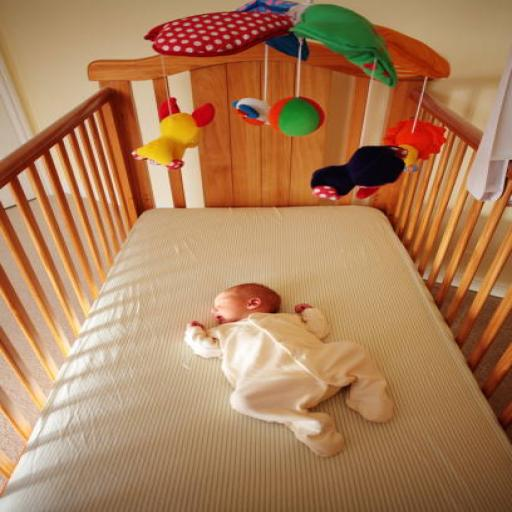baby: (185, 284, 392, 456)
crib: (0, 45, 368, 440)
